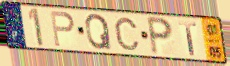1: (27, 7, 45, 48)
C: (113, 16, 142, 52)
P: (145, 15, 175, 57), (49, 9, 76, 48)
Q: (84, 13, 114, 51)
T: (178, 20, 199, 57)
